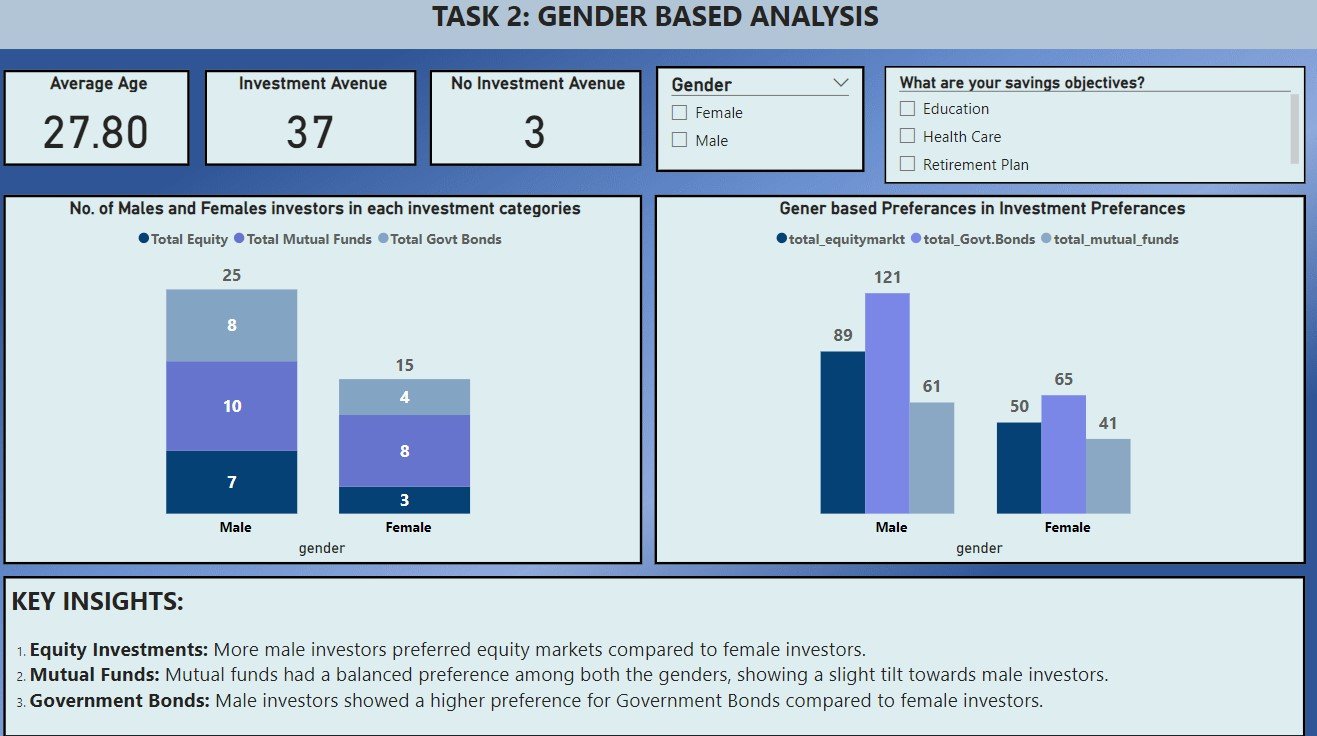

Layout of this report page (visuals, bound fields, positions):
{"tool":"powerbi","page":{"name":"TASK 2","canvas":[1280,720],"ordinal":1},"visuals":[{"type":"columnChart","title":"No. of Males and Females investors in each investment categories","fields":{"Category":["Sales_data.gender"],"Y":["Sales_data.Total Equity by Gender","Sales_data.Total Mutual Funds by Gender","Sales_data.Total Govt Bonds by Gender"]},"box":[10.9,196.6,616.5,357.1],"z":0},{"type":"clusteredColumnChart","title":"Gener based Preferances in Investment Preferances","fields":{"Y":["Sales_data.total_equitymarkt","Sales_data.total_govtbonds","Sales_data.total_mutual_funds"],"Category":["Sales_data.gender"]},"box":[639.4,196.6,628.6,357.1],"z":1000},{"type":"card","title":"Average Age","fields":{"Values":["Sales_data.Average_age"]},"box":[10.9,76,179.8,92.9],"z":2000},{"type":"card","title":"No Investment Avenue","fields":{"Values":["Sales_data.No_investment_avenue"]},"box":[422.3,76,205.1,92.9],"z":3000},{"type":"card","title":"Investment Avenue","fields":{"Values":["Sales_data.Total_investment_avenue"]},"box":[205.1,76,205.1,92.9],"z":4000},{"type":"slicer","title":"Gender","fields":{"Values":["Sales_data.gender"]},"box":[640.6,72.4,201.5,102.5],"z":5000},{"type":"slicer","fields":{"Values":["Sales_data.What are your savings objectives?"]},"box":[861.4,72.4,406.6,113.4],"z":6000},{"type":"textbox","box":[0,0,1280.3,56.3],"z":7000},{"type":"textbox","box":[10.9,564.6,1257.1,155.6],"z":8000}]}

Visuals, with their boxes in screenshot pixels (x1, y1, x2, y2), scaled from the page's 1280x720 canvas onto the 1317x736 screenshot:
"No. of Males and Females investors in each investment categories" columnChart: {"x1": 11, "y1": 201, "x2": 646, "y2": 566}
"Gener based Preferances in Investment Preferances" clusteredColumnChart: {"x1": 658, "y1": 201, "x2": 1305, "y2": 566}
"Average Age" card: {"x1": 11, "y1": 78, "x2": 196, "y2": 173}
"No Investment Avenue" card: {"x1": 435, "y1": 78, "x2": 646, "y2": 173}
"Investment Avenue" card: {"x1": 211, "y1": 78, "x2": 422, "y2": 173}
"Gender" slicer: {"x1": 659, "y1": 74, "x2": 866, "y2": 179}
slicer - Sales_data.What are your savings objectives?: {"x1": 886, "y1": 74, "x2": 1305, "y2": 190}
textbox: {"x1": 0, "y1": 0, "x2": 1316, "y2": 58}
textbox: {"x1": 11, "y1": 577, "x2": 1305, "y2": 735}
